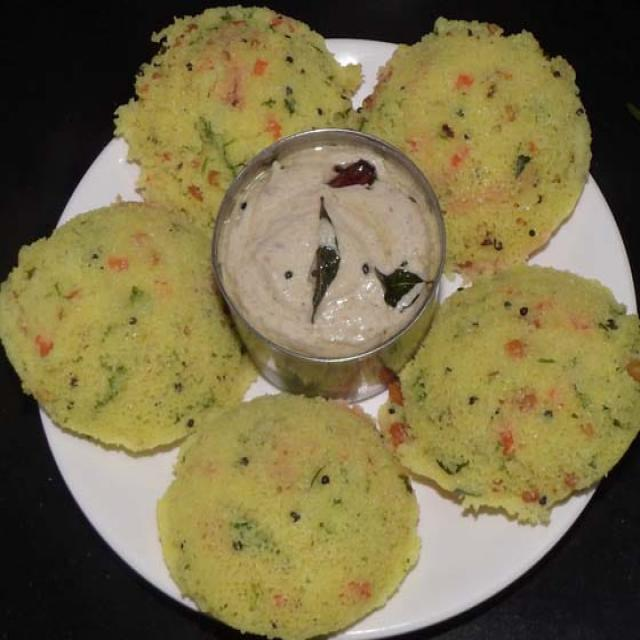rave idli: (358, 5, 608, 284), (0, 208, 248, 462), (170, 386, 418, 640), (429, 252, 640, 526), (120, 0, 338, 199)
